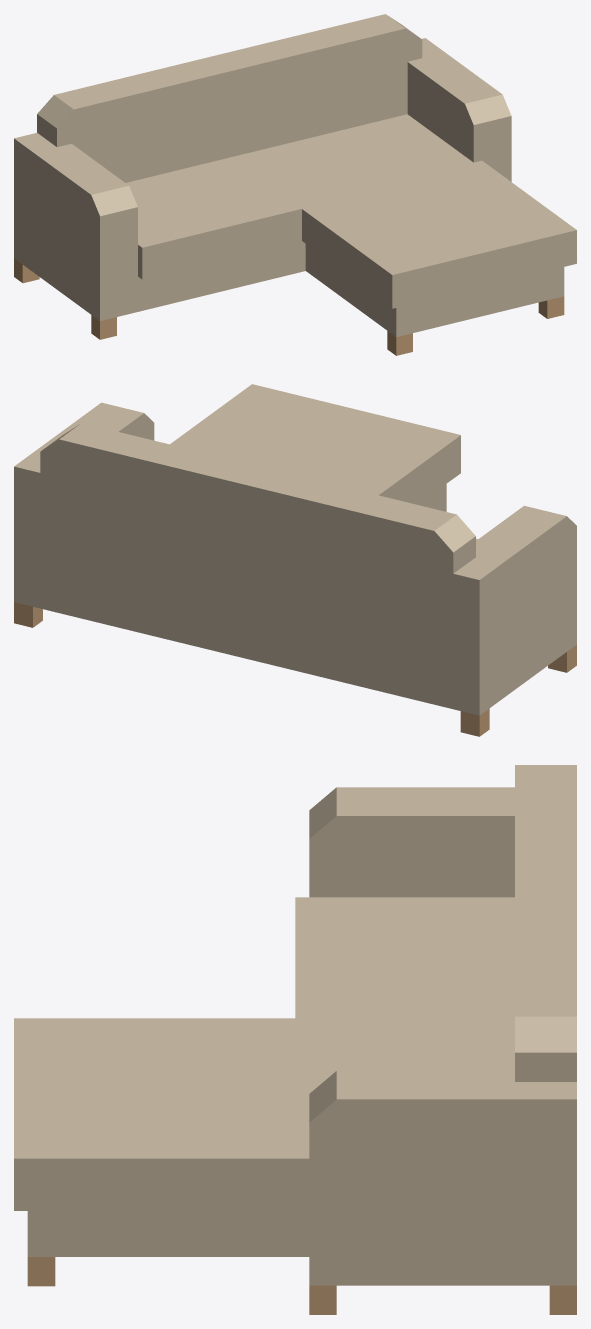
The model's file is sofa-chaise.glb.
3 renders of one model, top to bottom at view 1: azimuth 30°, elevation 25°; view 2: azimuth 150°, elevation 25°; view 3: azimuth 270°, elevation 25°, orthographic. The views are drawn at different scales.
Parts seen in each view (by area): view 1: sofa-chaise; view 2: sofa-chaise; view 3: sofa-chaise.
Boxes of the visible parts, bbox=[...] form: sofa-chaise: bbox=[14, 14, 576, 355]; sofa-chaise: bbox=[14, 384, 576, 736]; sofa-chaise: bbox=[14, 765, 576, 1314].
Bounding box in the file's own units: 2.1 × 0.84 × 1.6.
